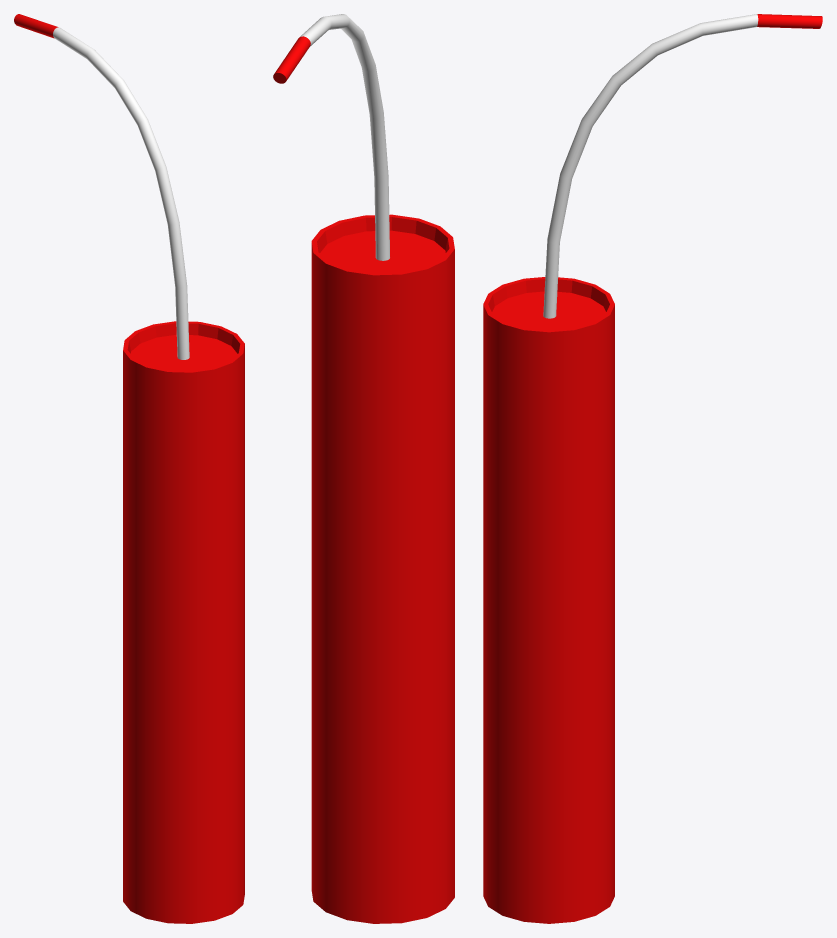
Rendered from Dynamite.FBX.
3 renders of one model, left to right at view 1: azimuth 30°, elevation 25°; view 2: azimuth 150°, elevation 25°; view 3: azimuth 270°, elevation 25°, orthographic. The views are drawn at different scales.
Parts seen in each view (by area): view 1: Cylinder01, Cylinder02; view 2: Cylinder01, Cylinder02; view 3: Cylinder01, Cylinder02.
Boxes of the visible parts, x1,y1,x2,y2 form: Cylinder01: (123, 321, 244, 923); Cylinder02: (14, 14, 189, 359); Cylinder01: (311, 214, 454, 923); Cylinder02: (273, 14, 389, 260); Cylinder01: (483, 277, 614, 923); Cylinder02: (543, 14, 822, 318).
Size of the model in its own units: 18.19 by 132 by 46.81.
